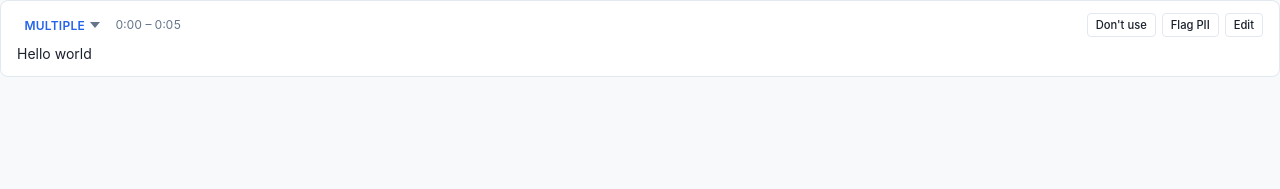
Test case: SegmentList › Segment text editing › Save button exits edit mode
Click the button with test id "segment-edit-btn-0".
click(1244, 25)  # box [1225, 13, 1263, 37]
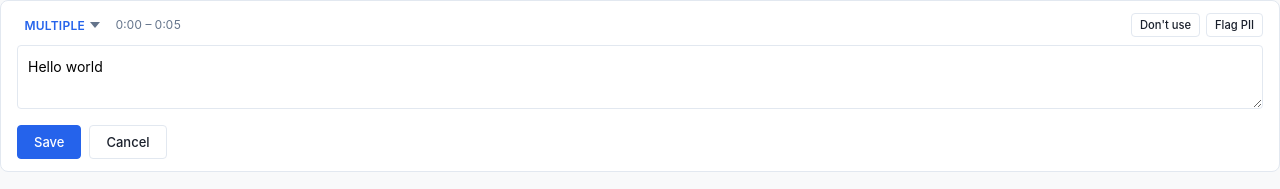
Click the button with test id "segment-save-btn-0".
click(49, 142)  # box [17, 125, 81, 159]
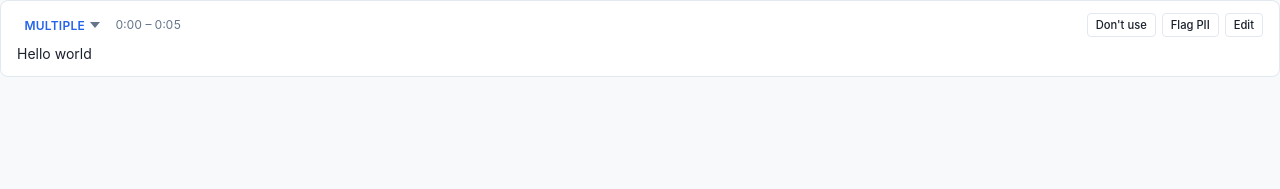
Expected: the text box with test id "segment-edit-input-0" is gone
Expected: the text "Hello world" is shown, [17, 45, 92, 62]
